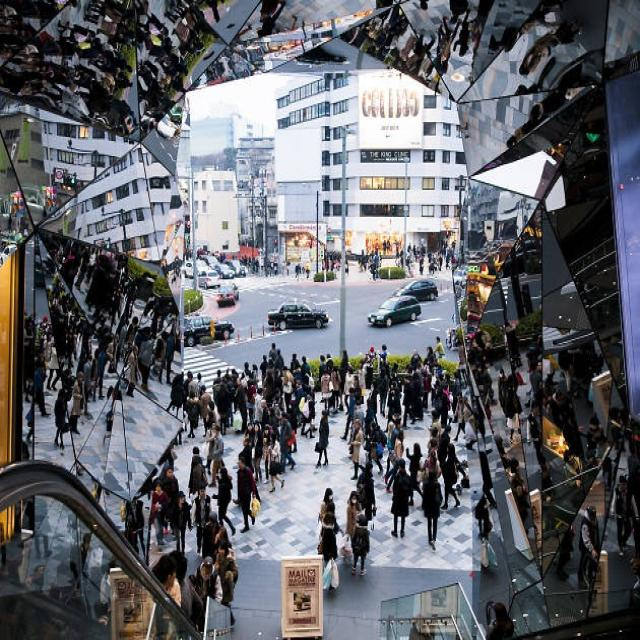body: (0, 0, 605, 129), (0, 190, 182, 565), (466, 222, 560, 639), (182, 338, 468, 439), (181, 228, 467, 280), (558, 330, 640, 496), (154, 565, 206, 640), (187, 555, 224, 636), (212, 538, 240, 630), (610, 472, 639, 560), (576, 503, 602, 593), (419, 466, 444, 554), (389, 457, 415, 540), (439, 442, 469, 511), (316, 511, 340, 594), (210, 465, 237, 537), (189, 481, 213, 559), (168, 488, 194, 559), (207, 423, 234, 490), (231, 435, 255, 510), (234, 454, 256, 534), (355, 460, 378, 533), (150, 479, 171, 553), (319, 499, 339, 575), (338, 385, 364, 442), (384, 427, 406, 494), (350, 513, 372, 576), (186, 443, 204, 518), (277, 410, 298, 474), (404, 442, 424, 507), (267, 431, 287, 495), (349, 418, 368, 481), (364, 419, 385, 476), (52, 385, 70, 450), (202, 508, 222, 566), (68, 370, 85, 437), (386, 405, 402, 472), (313, 407, 330, 469), (158, 465, 181, 506), (187, 453, 206, 499), (184, 388, 201, 439), (251, 422, 265, 482), (344, 490, 360, 542), (451, 389, 466, 444), (260, 423, 273, 485), (210, 423, 224, 477), (198, 384, 212, 438), (209, 524, 233, 554), (318, 485, 335, 525), (389, 418, 404, 458), (366, 382, 379, 427), (431, 335, 447, 359), (377, 342, 389, 369), (365, 344, 378, 368), (208, 397, 220, 423), (243, 420, 252, 441)
